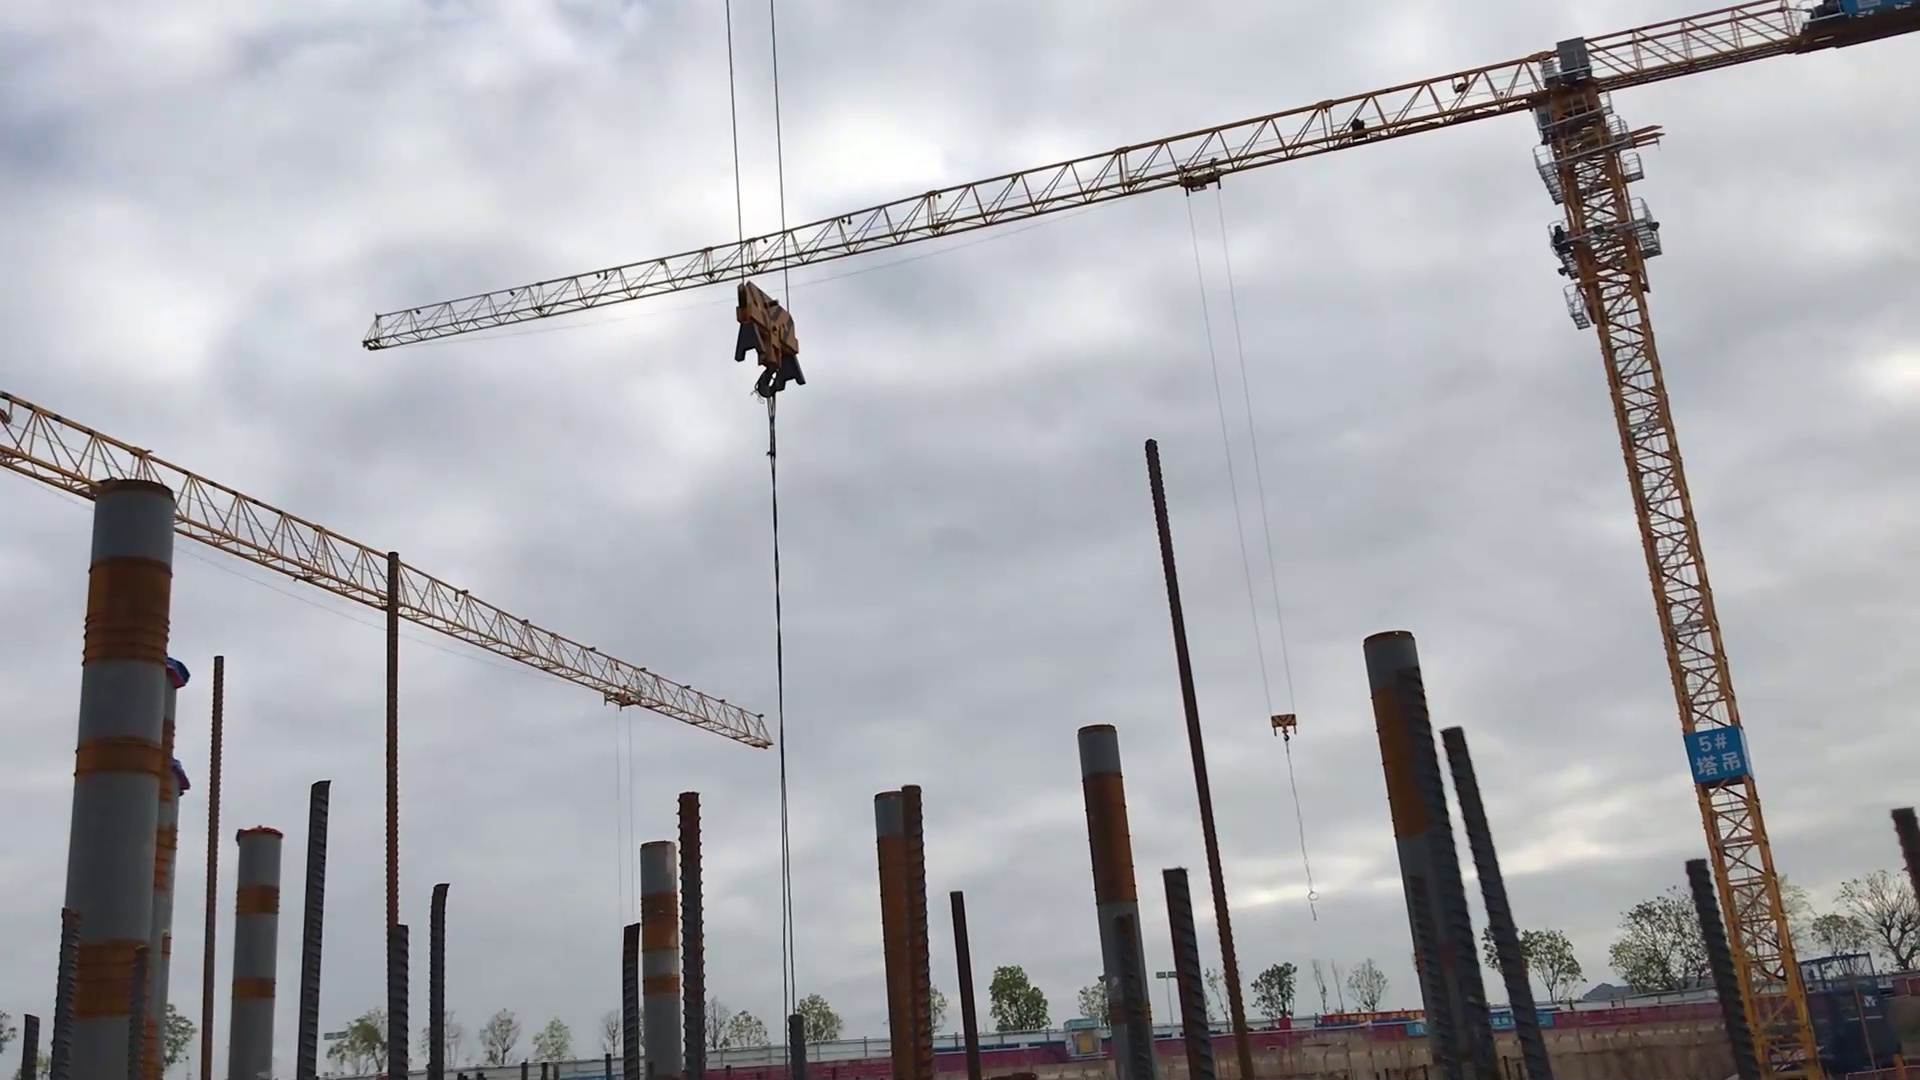hook: (728, 277, 807, 404)
